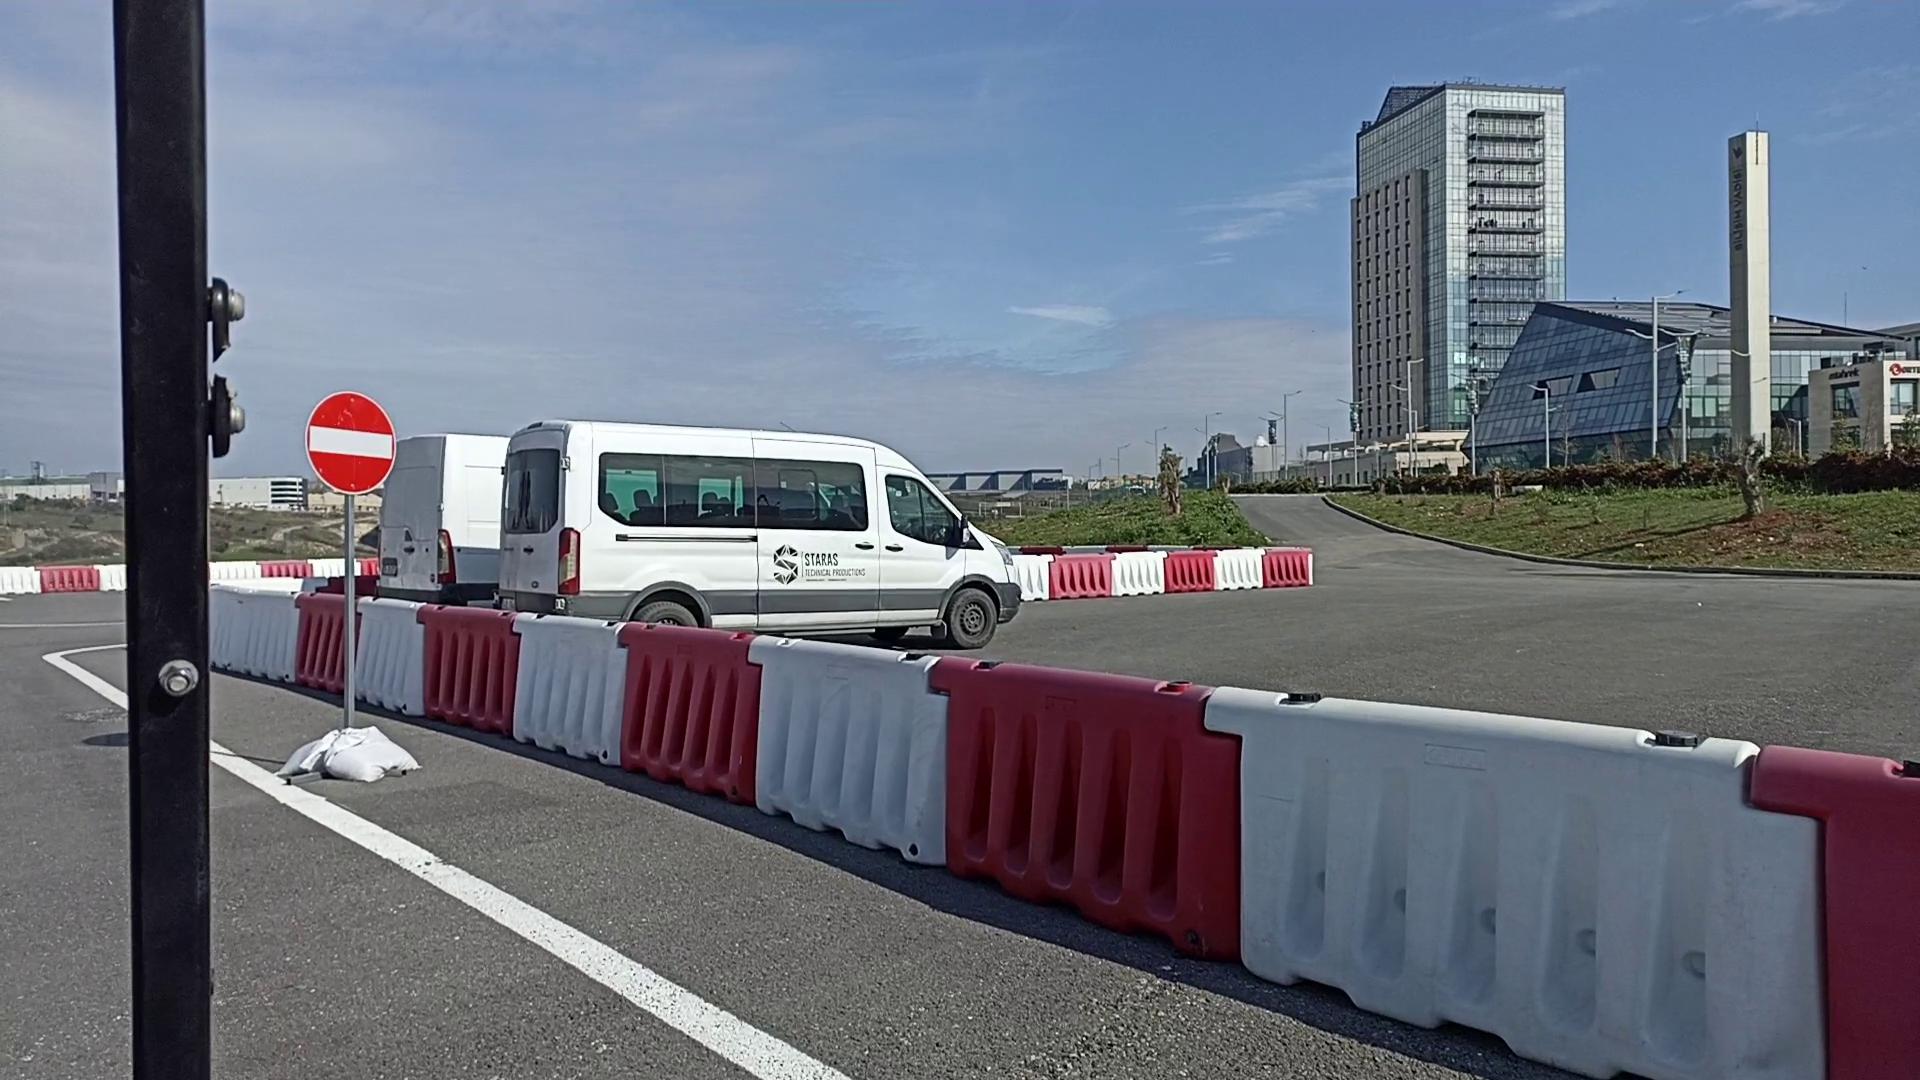noentryway: (305, 390, 396, 497)
